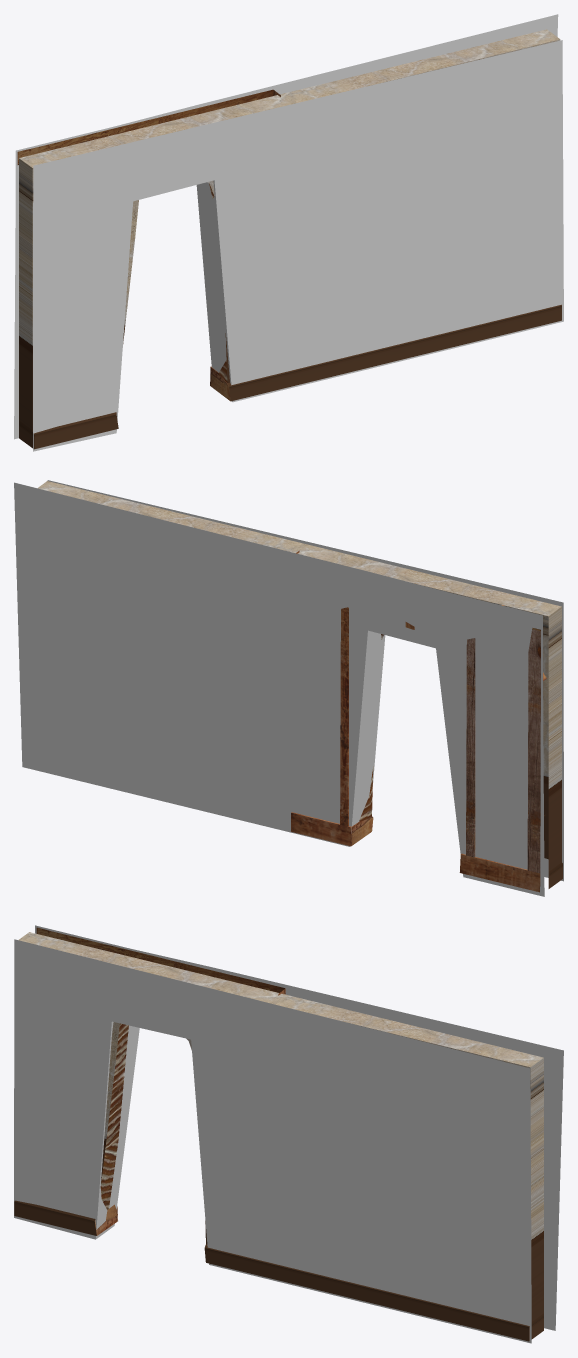
File: ServantRoomBreech.fbx
3 views of the same model, one above another, from view 1: azimuth 30°, elevation 25°; view 2: azimuth 150°, elevation 25°; view 3: azimuth 330°, elevation 25° (orthographic). The views are drawn at different scales.
Visible parts, largest first — view 1: ServantBreech_Coll_Mesh, Wall_Servants_Breach; view 2: ServantBreech_Coll_Mesh, Wall_Servants_Breach; view 3: ServantBreech_Coll_Mesh, Wall_Servants_Breach.
Boxes of the visible parts, x1=… form: ServantBreech_Coll_Mesh: x1=14, y1=14, x2=563, y2=451; Wall_Servants_Breach: x1=17, y1=29, x2=561, y2=449; ServantBreech_Coll_Mesh: x1=14, y1=480, x2=563, y2=896; Wall_Servants_Breach: x1=38, y1=481, x2=562, y2=892; ServantBreech_Coll_Mesh: x1=14, y1=925, x2=563, y2=1343; Wall_Servants_Breach: x1=14, y1=927, x2=543, y2=1341.
Bounding box in the file's own units: 755 × 387 × 50.42.
